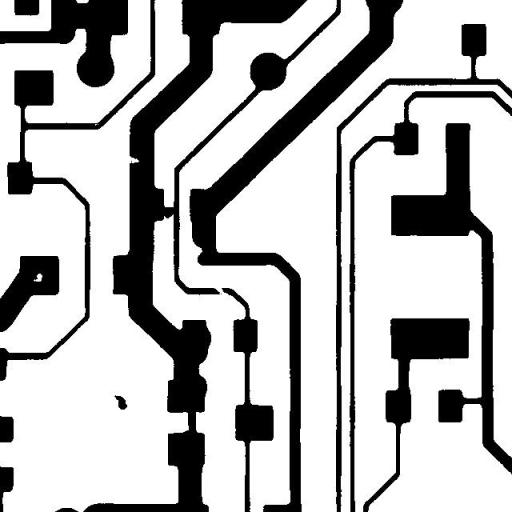copper: (106, 387, 134, 417)
mousebite: (118, 148, 146, 171)
open: (206, 277, 236, 304)
pin-hole: (26, 266, 50, 288)
short: (180, 400, 204, 443), (153, 199, 185, 226)
